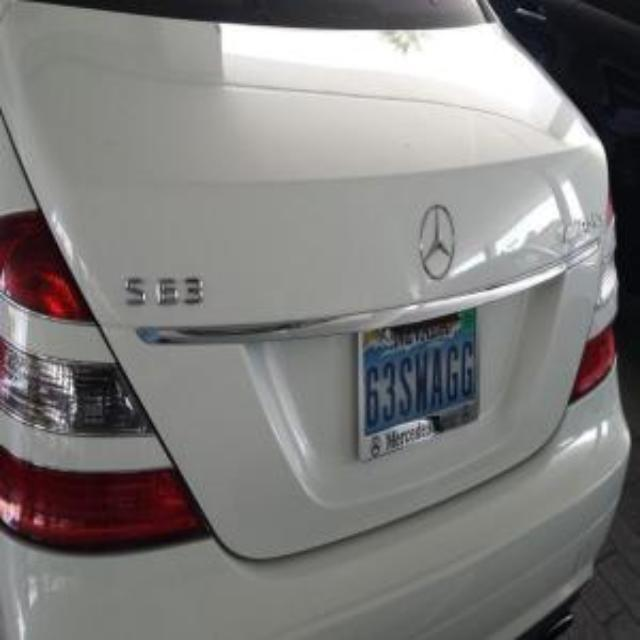License Plate: (359, 306, 482, 462)
